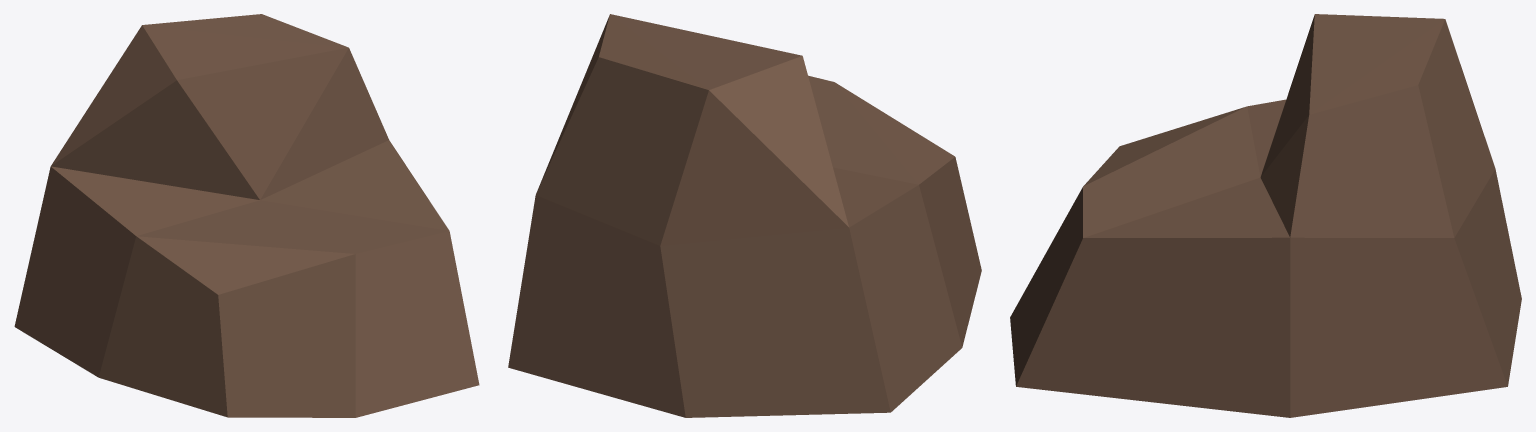
File: FlatRock-B08.fbx
3 renders of one model, left to right at view 1: azimuth 30°, elevation 25°; view 2: azimuth 150°, elevation 25°; view 3: azimuth 270°, elevation 25°, orthographic. The views are drawn at different scales.
Visible parts, largest first — view 1: FlatRock-B08; view 2: FlatRock-B08; view 3: FlatRock-B08.
Boxes of the visible parts, x1=… form: FlatRock-B08: x1=14, y1=14, x2=479, y2=417; FlatRock-B08: x1=508, y1=14, x2=981, y2=417; FlatRock-B08: x1=1010, y1=14, x2=1521, y2=417.
Size of the model in its own units: 146 by 104 by 167.
